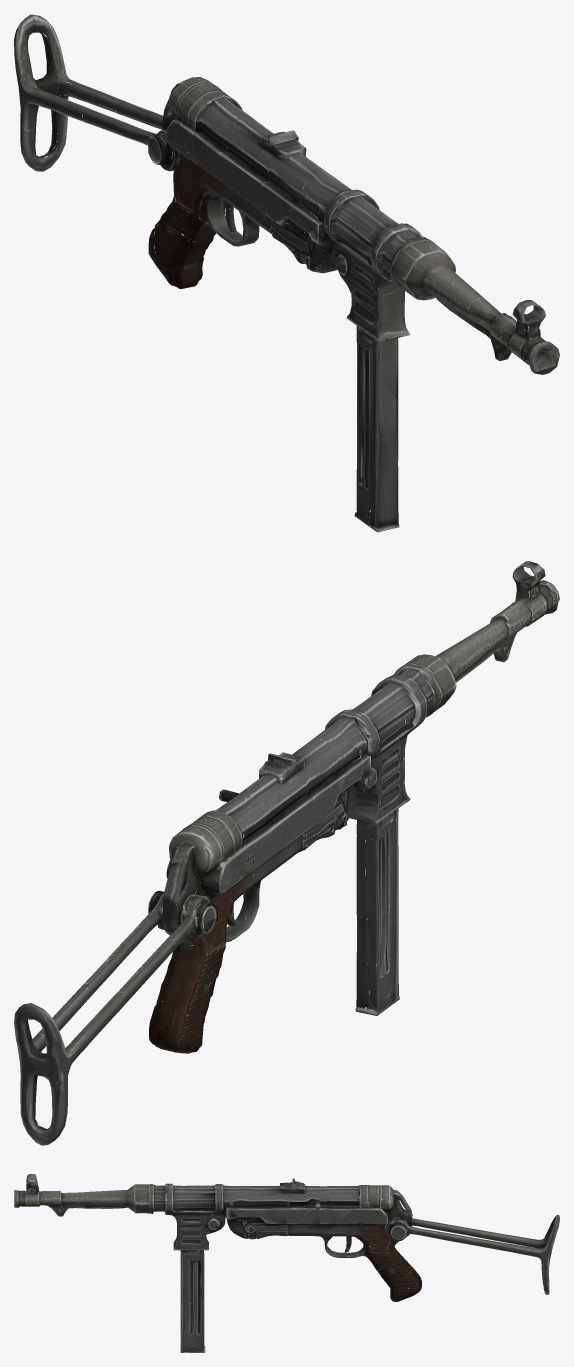
The picture shows the model from 3 angles, top to bottom: view 1: azimuth 30°, elevation 25°; view 2: azimuth 150°, elevation 25°; view 3: azimuth 270°, elevation 25°; orthographic projection. The views are drawn at different scales.
Parts seen in each view (by area): view 1: tripo_node_c2cf85c8-6388-4847-ab3e-964e11b22ae8; view 2: tripo_node_c2cf85c8-6388-4847-ab3e-964e11b22ae8; view 3: tripo_node_c2cf85c8-6388-4847-ab3e-964e11b22ae8.
Boxes of the visible parts, x1,y1,x2,y2 form: tripo_node_c2cf85c8-6388-4847-ab3e-964e11b22ae8: (14, 14, 559, 532); tripo_node_c2cf85c8-6388-4847-ab3e-964e11b22ae8: (14, 561, 559, 1145); tripo_node_c2cf85c8-6388-4847-ab3e-964e11b22ae8: (14, 1174, 559, 1352).
Size of the model in its own units: 0.0732 by 0.3538 by 1.
Materials: 1 (1 with a texture image).
